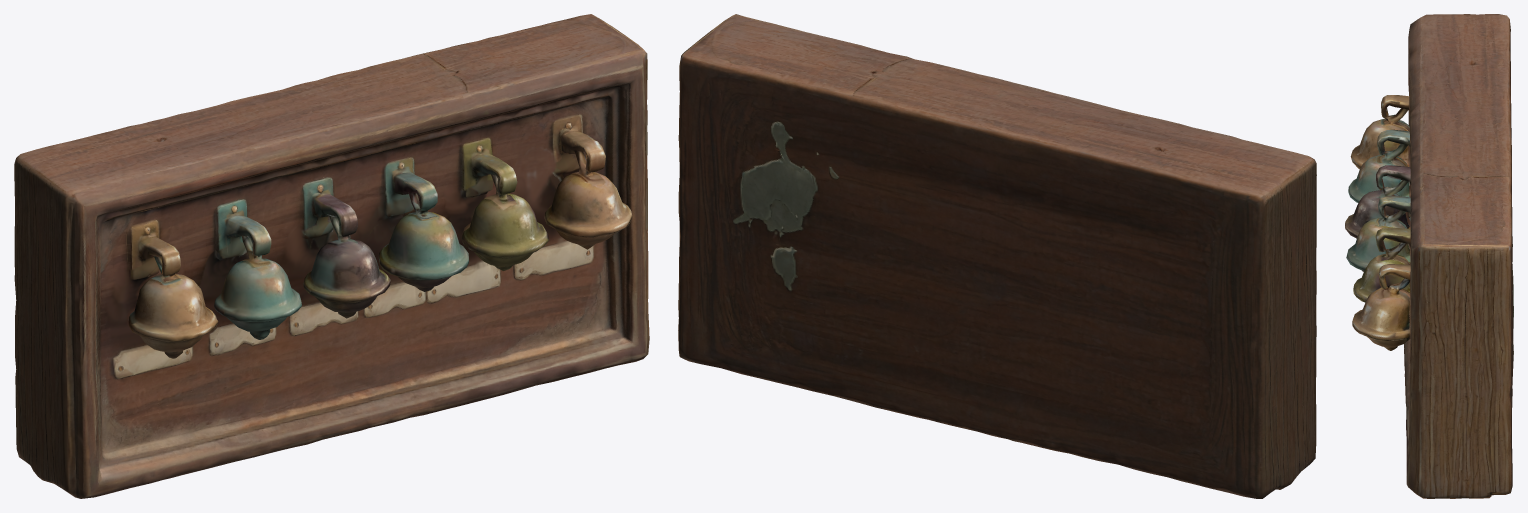
The model's file is Prop_ServantBellBoard.fbx.
The picture shows the model from 3 angles, left to right: view 1: azimuth 30°, elevation 25°; view 2: azimuth 150°, elevation 25°; view 3: azimuth 270°, elevation 25°; orthographic projection. The views are drawn at different scales.
Visible parts, largest first — view 1: texture_mapping; view 2: texture_mapping; view 3: texture_mapping.
Part boxes in pixels (box(x1,y1,x2,y2)): texture_mapping: box(14, 14, 649, 498); texture_mapping: box(678, 14, 1316, 498); texture_mapping: box(1345, 14, 1513, 498).
Bounding box in the file's own units: 0.9995 × 0.3036 × 0.5062.
Materials: 1 (1 with a texture image).
